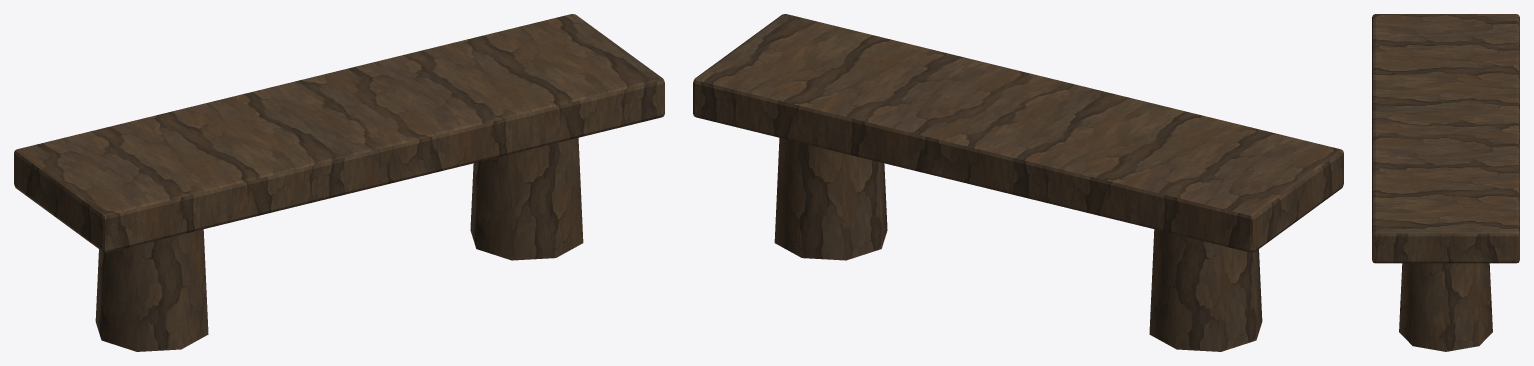
3 views of the same model, side by side, from view 1: azimuth 30°, elevation 25°; view 2: azimuth 150°, elevation 25°; view 3: azimuth 270°, elevation 25° (orthographic). The views are drawn at different scales.
Visible parts, largest first — view 1: Bench stump leg; view 2: Bench stump leg; view 3: Bench stump leg.
Part boxes in pixels (x1,y1,x2,y2): Bench stump leg: [14, 14, 664, 351]; Bench stump leg: [693, 14, 1343, 351]; Bench stump leg: [1372, 14, 1519, 351].
Size of the model in its own units: 3 by 0.86 by 0.85.
Materials: 2 (1 with a texture image).
